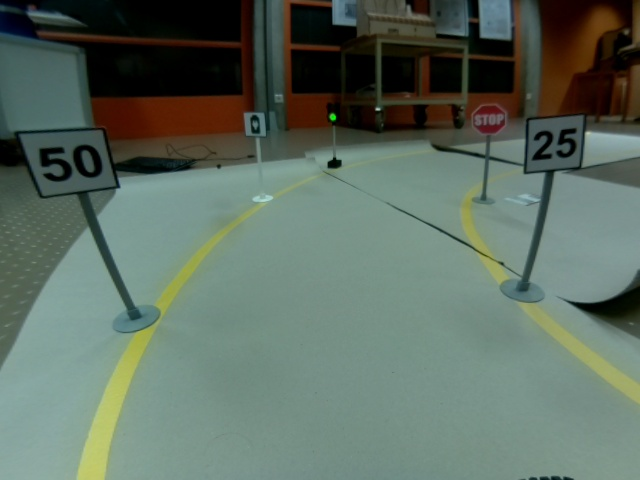battery: (243, 111, 267, 138)
speed25: (523, 112, 586, 175)
speed50: (13, 127, 123, 200)
stop: (471, 103, 508, 135)
trafficLightGreen: (325, 102, 339, 123)
